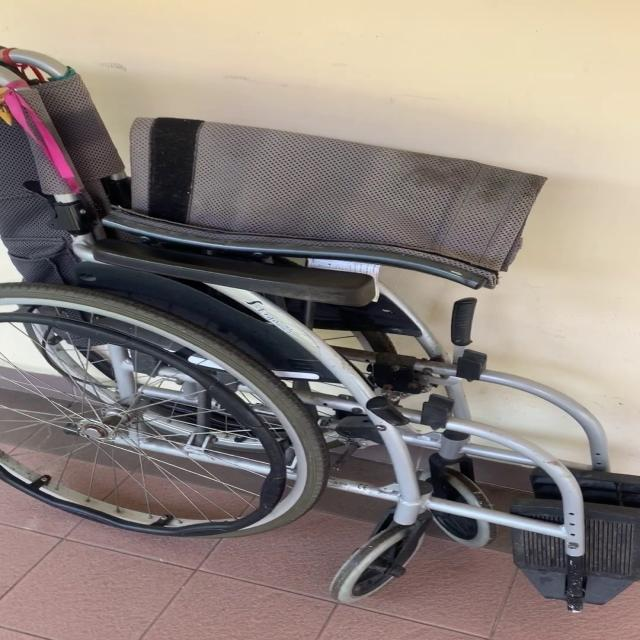wheelchair: (7, 32, 640, 640)
